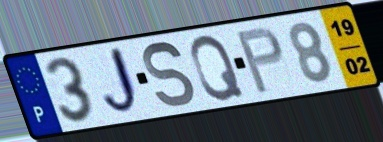3: (44, 55, 98, 125)
8: (287, 20, 335, 85)
J: (100, 44, 143, 119)
P: (233, 24, 286, 96)
Q: (188, 32, 247, 103)
S: (141, 39, 198, 110)
